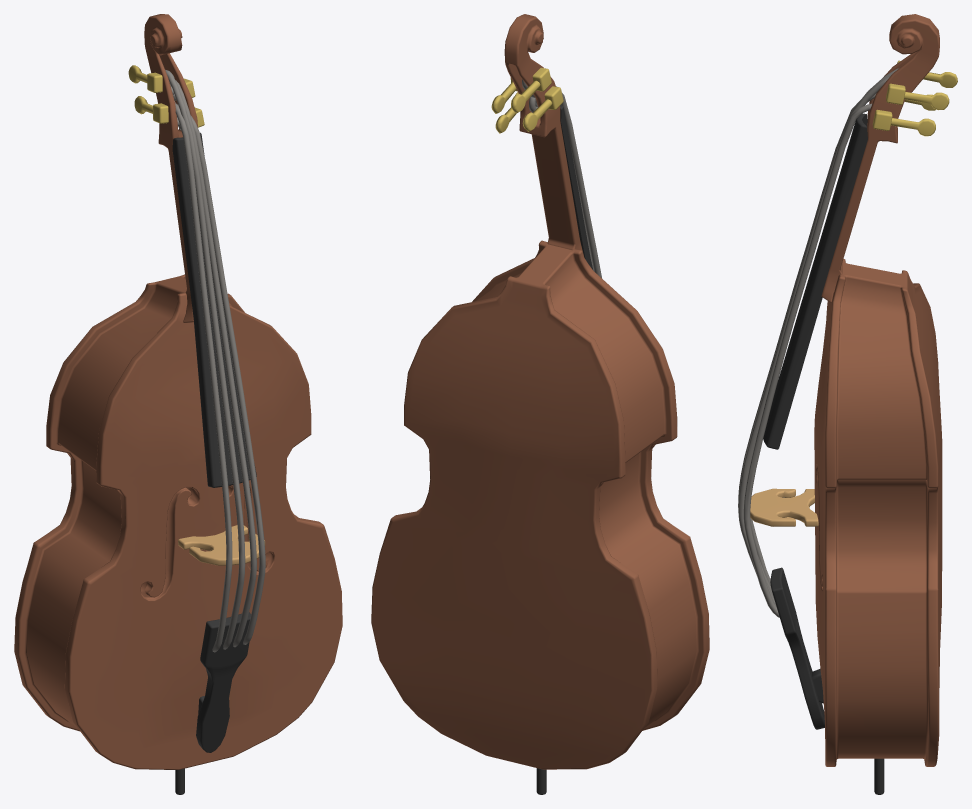
File: Contrabass01.fbx
3 renders of one model, left to right at view 1: azimuth 30°, elevation 25°; view 2: azimuth 150°, elevation 25°; view 3: azimuth 270°, elevation 25°, orthographic. The views are drawn at different scales.
Parts seen in each view (by area): view 1: Contrabass_01; view 2: Contrabass_01; view 3: Contrabass_01.
Boxes of the visible parts, bbox=[...] form: Contrabass_01: bbox=[14, 14, 342, 794]; Contrabass_01: bbox=[371, 14, 709, 794]; Contrabass_01: bbox=[738, 14, 957, 794].
Bounding box in the file's own units: 42.81 × 114 × 29.28.
